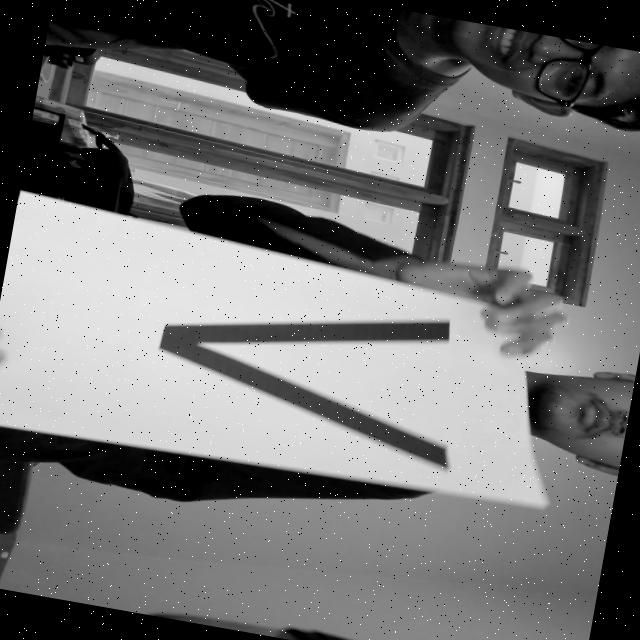v: (136, 261, 497, 481)
